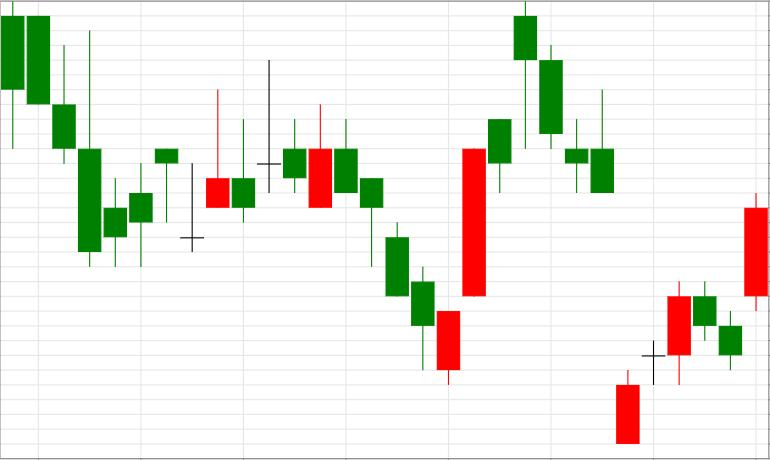hanging_man_fall: (436, 1, 537, 386)
